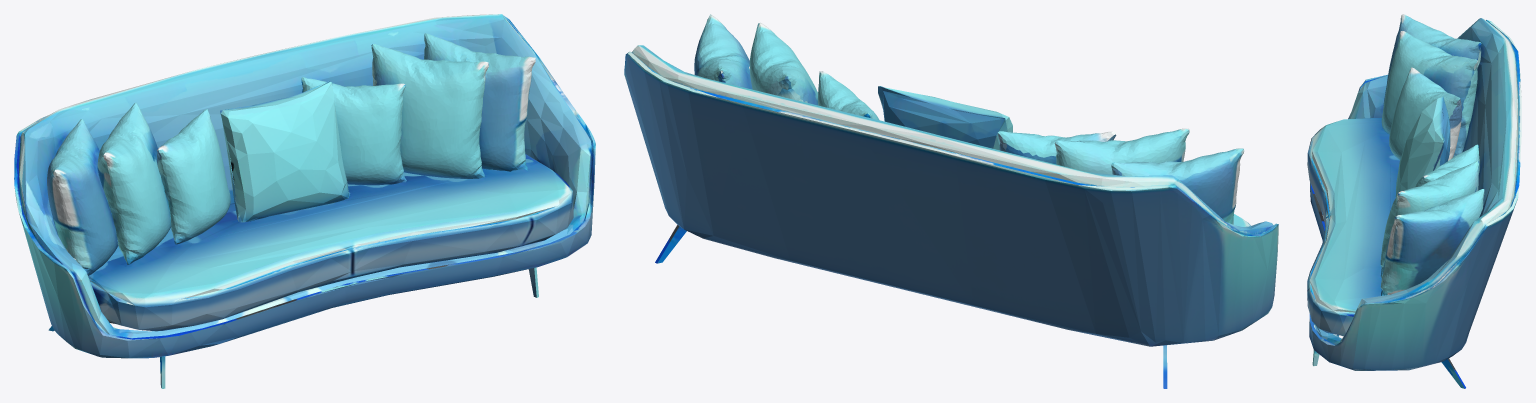
Rendered from edited_mesh.glb.
The picture shows the model from 3 angles, left to right: view 1: azimuth 30°, elevation 25°; view 2: azimuth 150°, elevation 25°; view 3: azimuth 270°, elevation 25°; orthographic projection. The views are drawn at different scales.
Parts seen in each view (by area): view 1: solid_001_wire; view 2: solid_001_wire; view 3: solid_001_wire.
Part boxes in pixels (x1=…): solid_001_wire: x1=14, y1=14, x2=595, y2=388; solid_001_wire: x1=624, y1=14, x2=1278, y2=388; solid_001_wire: x1=1307, y1=14, x2=1521, y2=388.
Bounding box in the file's own units: 2 × 0.7102 × 0.7886.
1 material, 1 textured.
